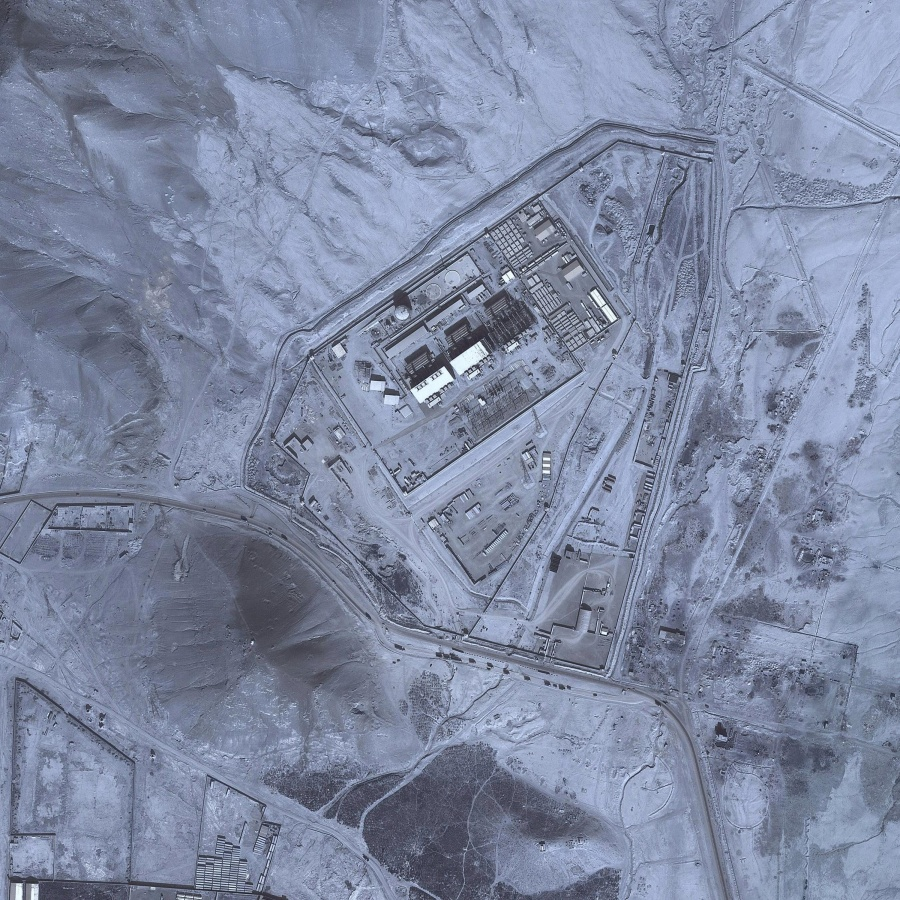PowerPlant: (368, 223, 617, 407)
